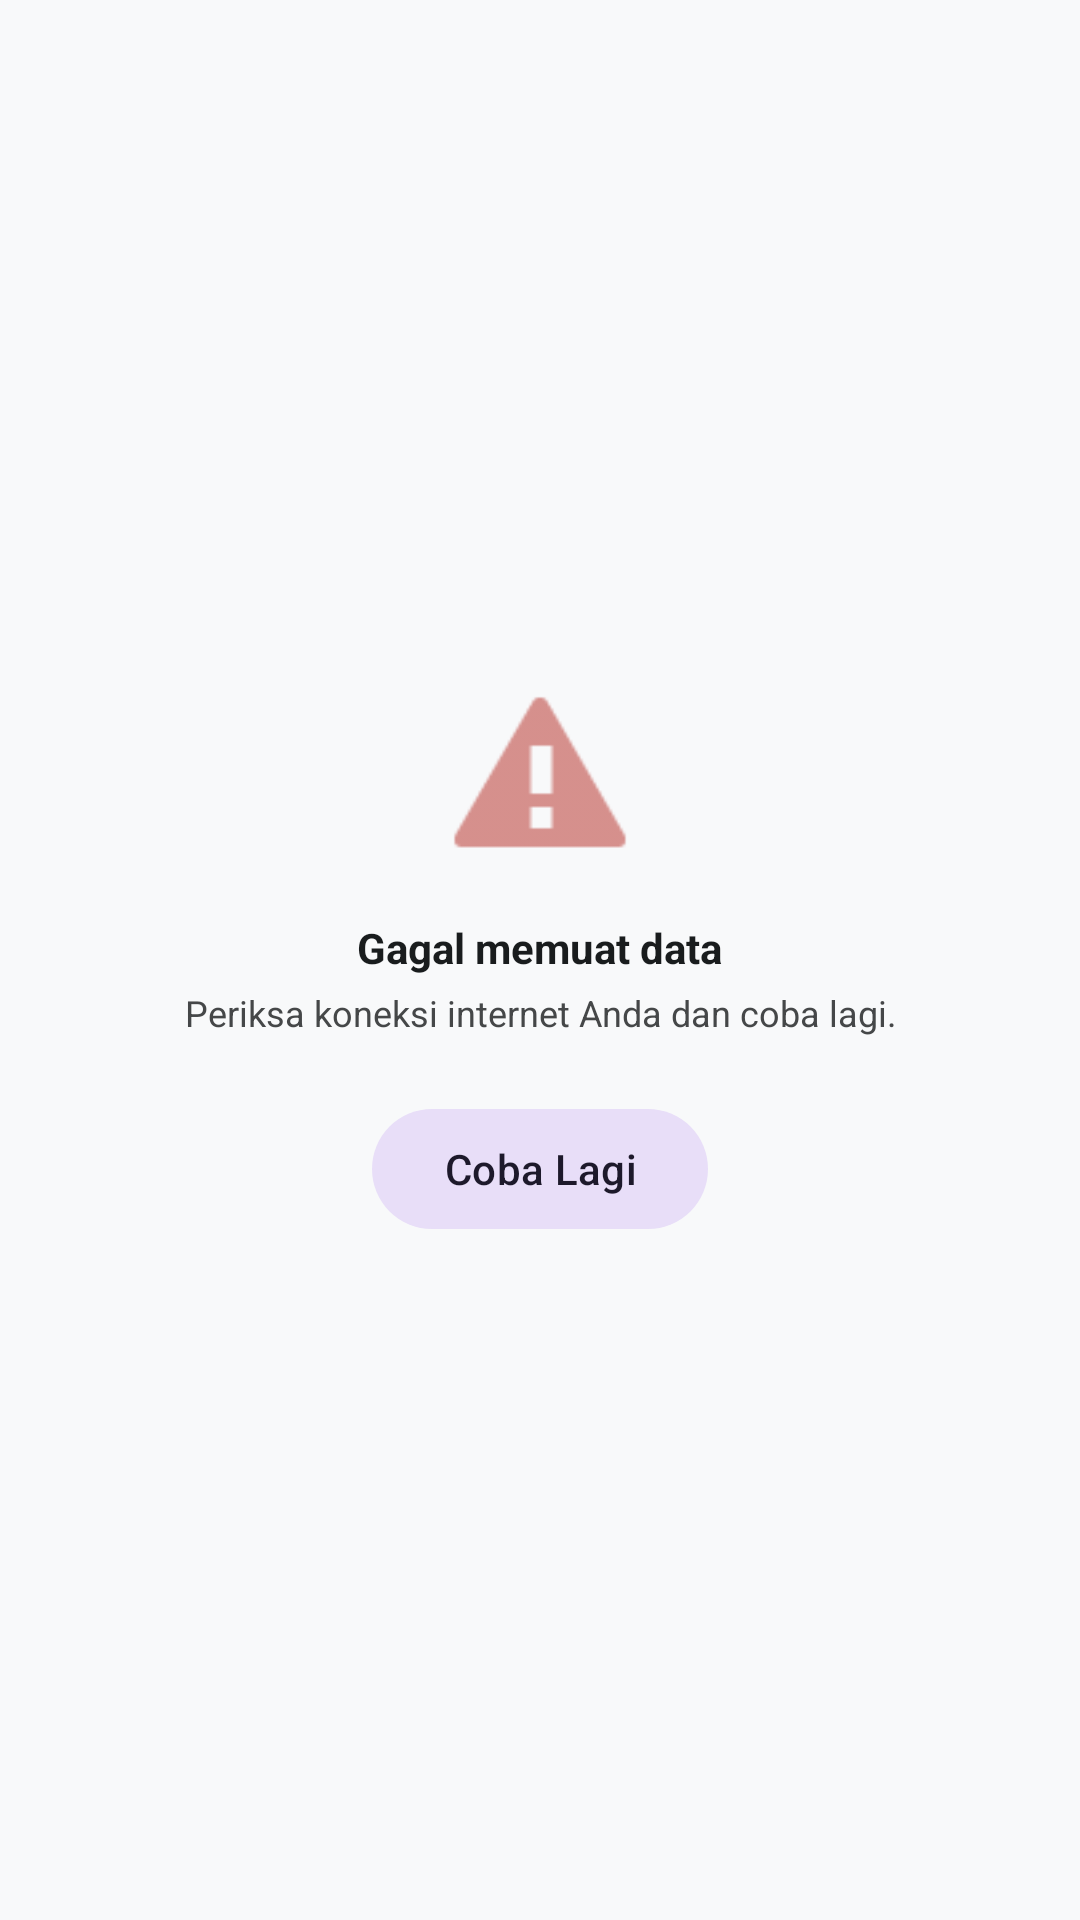

Icons on this 1080x1920 Android screen, each with its box as BBox(x1, y1, x2, y2):
error: BBox(454, 697, 626, 848)
